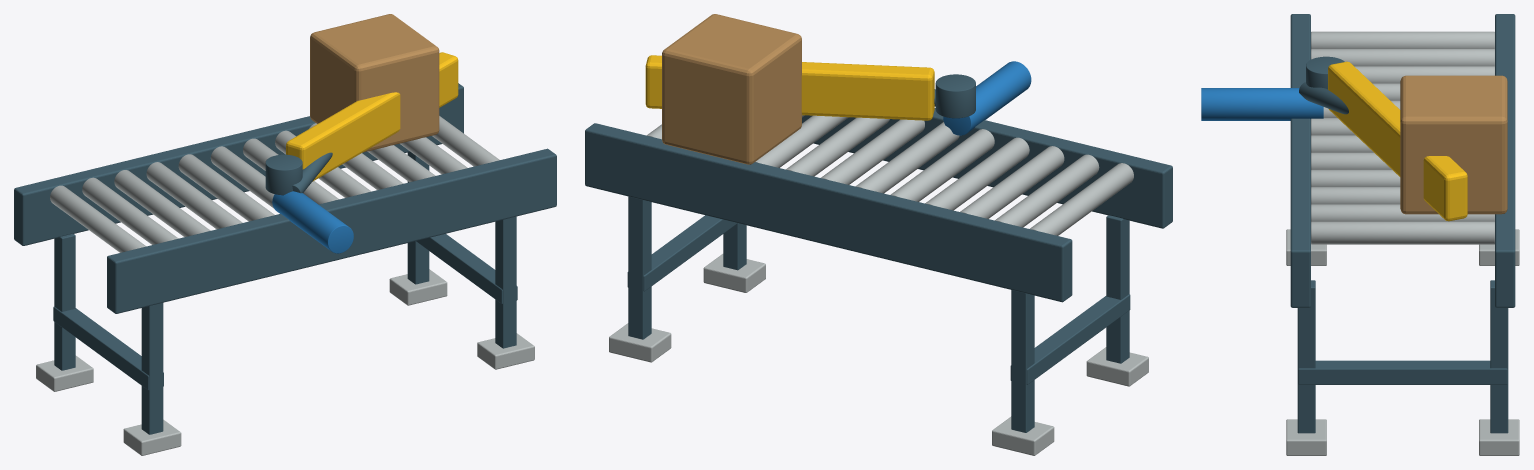
File: powered_diverter_arm.glb
The picture shows the model from 3 angles, left to right: view 1: azimuth 30°, elevation 25°; view 2: azimuth 150°, elevation 25°; view 3: azimuth 270°, elevation 25°; orthographic projection. The views are drawn at different scales.
Parts seen in each view (by area): view 1: SIDE_-0.4, CARTON, SIDE_0.4, KIN_DIVERTER_ARM, LEG_-0.8800000000000001_-0.3772, LEG_0.8800000000000001_-0.3772, CROSS_-0.8800000000000001, DIVERTER_ACTUATOR, LEG_-0.8800000000000001_0.3772, ROLLER_4, ROLLER_0, ROLLER_1 (+17 smaller); view 2: SIDE_0.4, CARTON, SIDE_-0.4, KIN_DIVERTER_ARM, LEG_0.8800000000000001_0.3772, LEG_-0.8800000000000001_0.3772, CROSS_-0.8800000000000001, LEG_-0.8800000000000001_-0.3772, DIVERTER_ACTUATOR, ROLLER_3, ROLLER_0, ROLLER_1 (+13 smaller); view 3: CARTON, KIN_DIVERTER_ARM, SIDE_-0.4, CROSS_0.8800000000000001, SIDE_0.4, ROLLER_11, DIVERTER_ACTUATOR, ROLLER_0, ROLLER_1, LEG_0.8800000000000001_0.3772, LEG_0.8800000000000001_-0.3772, ROLLER_10 (+13 smaller).
Part boxes in pixels (left/top/right/bottom): SIDE_-0.4: left=107, top=148, right=556, bottom=313; CARTON: left=310, top=14, right=439, bottom=152; SIDE_0.4: left=14, top=83, right=463, bottom=245; KIN_DIVERTER_ARM: left=286, top=52, right=458, bottom=181; LEG_-0.8800000000000001_-0.3772: left=141, top=303, right=163, bottom=434; LEG_0.8800000000000001_-0.3772: left=495, top=216, right=516, bottom=348; CROSS_-0.8800000000000001: left=53, top=306, right=163, bottom=390; DIVERTER_ACTUATOR: left=272, top=191, right=353, bottom=253; LEG_-0.8800000000000001_0.3772: left=54, top=233, right=75, bottom=370; ROLLER_4: left=178, top=154, right=274, bottom=221; ROLLER_0: left=50, top=185, right=146, bottom=252; ROLLER_1: left=82, top=177, right=178, bottom=244; SIDE_0.4: left=585, top=123, right=1072, bottom=302; CARTON: left=662, top=14, right=801, bottom=164; SIDE_-0.4: left=802, top=108, right=1172, bottom=228; KIN_DIVERTER_ARM: left=645, top=55, right=934, bottom=120; LEG_0.8800000000000001_0.3772: left=628, top=196, right=651, bottom=339; LEG_-0.8800000000000001_0.3772: left=1011, top=290, right=1034, bottom=432; CROSS_-0.8800000000000001: left=1010, top=294, right=1130, bottom=384; LEG_-0.8800000000000001_-0.3772: left=1106, top=215, right=1129, bottom=363; DIVERTER_ACTUATOR: left=943, top=61, right=1031, bottom=135; ROLLER_3: left=925, top=137, right=1029, bottom=210; ROLLER_0: left=1030, top=163, right=1133, bottom=235; ROLLER_1: left=995, top=154, right=1099, bottom=227; CARTON: left=1400, top=75, right=1507, bottom=214; KIN_DIVERTER_ARM: left=1328, top=61, right=1467, bottom=221; SIDE_-0.4: left=1290, top=14, right=1310, bottom=307; CROSS_0.8800000000000001: left=1298, top=360, right=1507, bottom=384; SIDE_0.4: left=1495, top=14, right=1515, bottom=307; ROLLER_11: left=1311, top=221, right=1494, bottom=244; DIVERTER_ACTUATOR: left=1201, top=88, right=1323, bottom=120; ROLLER_0: left=1311, top=31, right=1494, bottom=48; ROLLER_1: left=1311, top=49, right=1494, bottom=66; LEG_0.8800000000000001_0.3772: left=1490, top=280, right=1508, bottom=433; LEG_0.8800000000000001_-0.3772: left=1297, top=280, right=1315, bottom=433; ROLLER_10: left=1311, top=204, right=1494, bottom=221.
Size of the model in its own units: 2.2 by 1.36 by 1.25.
